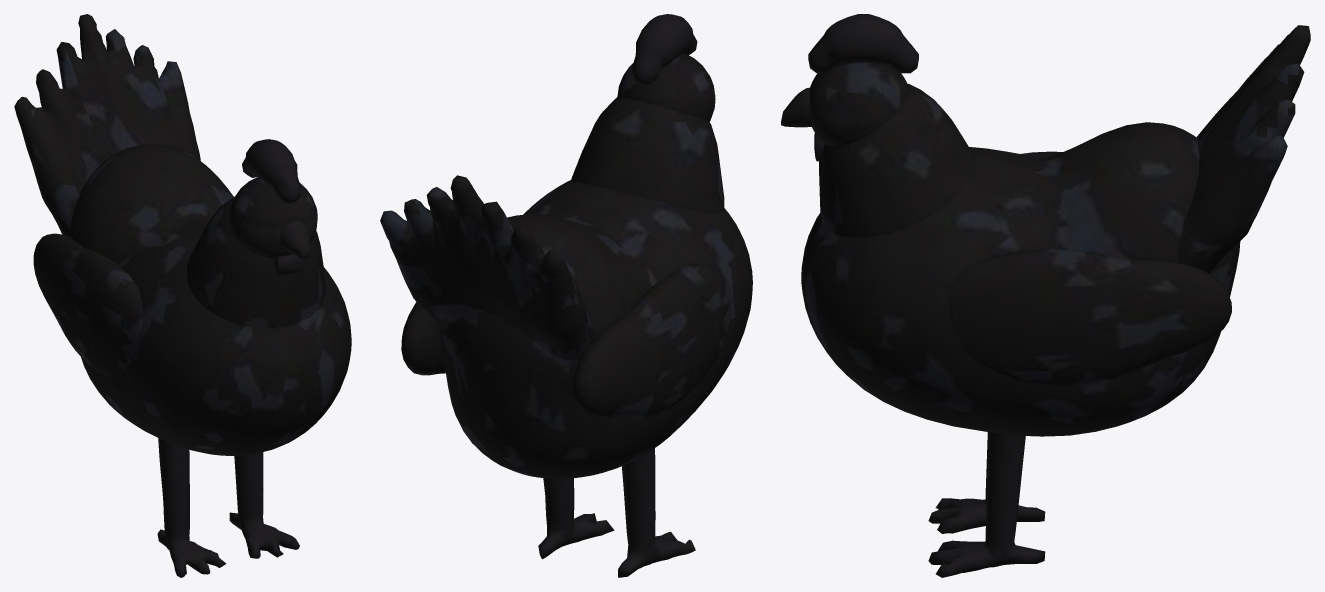
Rendered from animal_ayam_cemani.glb.
3 views of the same model, side by side, from view 1: azimuth 30°, elevation 25°; view 2: azimuth 150°, elevation 25°; view 3: azimuth 270°, elevation 25° (orthographic). The views are drawn at different scales.
Visible parts, largest first — view 1: animal_ayam_cemani, head, leg0, leg1; view 2: animal_ayam_cemani, head, leg0, leg1; view 3: animal_ayam_cemani, head, leg1, leg0.
Part boxes in pixels (<box>): animal_ayam_cemani: <box>14,14,351,455</box>; head: <box>229,139,317,276</box>; leg0: <box>157,438,226,577</box>; leg1: <box>229,452,299,558</box>; animal_ayam_cemani: <box>380,97,752,478</box>; head: <box>617,14,715,121</box>; leg0: <box>618,448,695,577</box>; leg1: <box>538,478,614,559</box>; animal_ayam_cemani: <box>801,25,1310,436</box>; head: <box>781,14,918,161</box>; leg1: <box>928,432,1045,577</box>; leg0: <box>928,432,1045,533</box>.
Bounding box in the file's own units: 0.1382 × 0.278 × 0.2527.
1 material, 1 textured.
